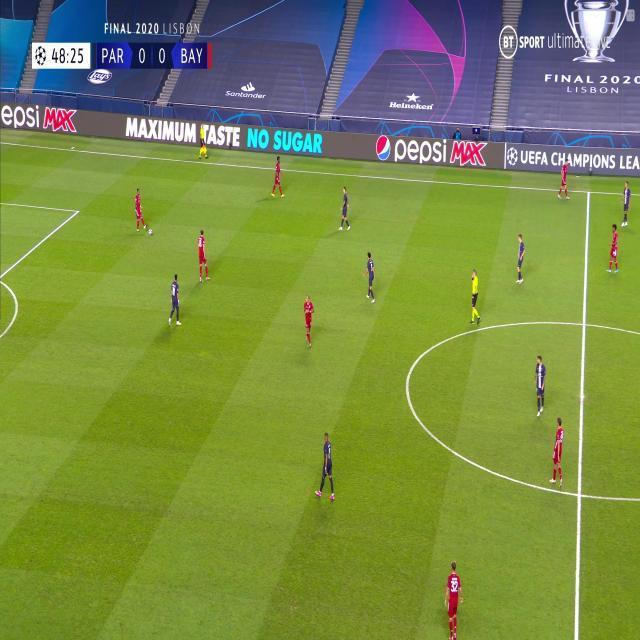ball: (148, 228, 153, 236)
player: (443, 559, 464, 640), (314, 430, 336, 502), (549, 416, 566, 488), (533, 353, 547, 419), (133, 187, 152, 235), (605, 222, 621, 274), (362, 249, 377, 303), (168, 272, 182, 329), (196, 228, 210, 284), (302, 293, 315, 348), (515, 231, 527, 285), (619, 180, 632, 229), (557, 157, 571, 202), (270, 157, 285, 199), (338, 184, 351, 232)
referee: (468, 264, 481, 326), (197, 124, 209, 161)
